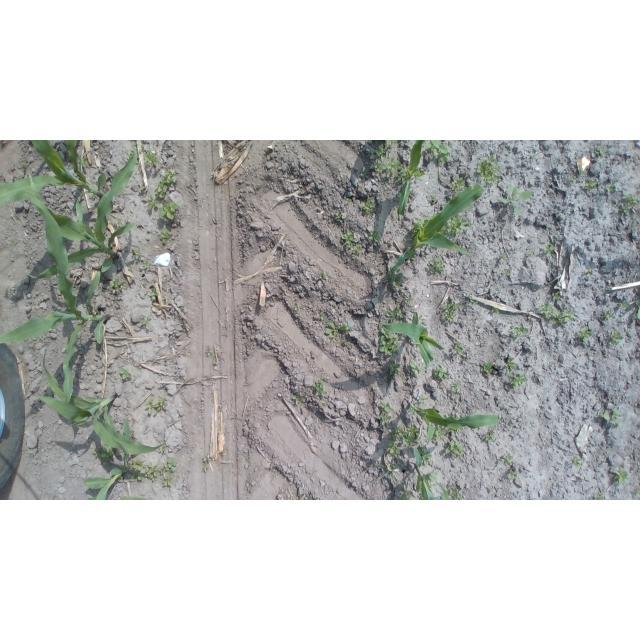Maize: (1, 188, 114, 409), (27, 144, 141, 284), (36, 348, 168, 460), (383, 182, 488, 275), (1, 140, 116, 212), (79, 415, 145, 499), (375, 309, 447, 371), (406, 401, 503, 443), (393, 141, 435, 220), (402, 445, 457, 500)
Weeds: (366, 141, 410, 182), (129, 459, 177, 491), (495, 184, 532, 219), (532, 305, 577, 326), (474, 156, 502, 185), (377, 327, 404, 357), (389, 424, 420, 448), (155, 170, 177, 203), (438, 218, 474, 238), (499, 452, 519, 480), (428, 140, 451, 164), (441, 299, 461, 326), (146, 396, 171, 417), (93, 444, 119, 464), (324, 322, 352, 339), (385, 303, 408, 323), (427, 257, 450, 277), (376, 401, 393, 427), (442, 440, 466, 458), (158, 202, 179, 222), (339, 228, 357, 251), (602, 409, 622, 429), (409, 217, 431, 235), (453, 342, 470, 365), (386, 269, 406, 288), (574, 327, 594, 346), (385, 442, 404, 461), (620, 192, 637, 213), (611, 469, 629, 488), (361, 196, 377, 216), (508, 374, 529, 389), (450, 174, 467, 192), (436, 421, 461, 433), (432, 366, 453, 380), (138, 314, 155, 331), (605, 329, 623, 345), (109, 278, 127, 294), (447, 486, 467, 500), (144, 152, 160, 169), (158, 228, 175, 244), (430, 425, 445, 443), (313, 379, 327, 398), (510, 326, 530, 339), (482, 430, 498, 446), (479, 361, 495, 377), (386, 360, 402, 376), (407, 360, 422, 377), (367, 228, 380, 245), (146, 196, 159, 213), (420, 449, 432, 467), (332, 210, 346, 225), (118, 367, 133, 381), (402, 291, 415, 305), (467, 295, 481, 308), (586, 177, 599, 191), (289, 391, 302, 405), (541, 243, 553, 258), (632, 298, 640, 320), (202, 455, 211, 474), (504, 358, 517, 371), (497, 250, 510, 263), (616, 299, 629, 312), (602, 310, 615, 323), (142, 260, 155, 273), (571, 453, 583, 467), (450, 380, 463, 392), (592, 489, 605, 500), (415, 397, 429, 407), (130, 249, 141, 261), (400, 490, 414, 499), (149, 290, 160, 301), (527, 248, 539, 258), (290, 303, 302, 313), (606, 184, 619, 193), (317, 312, 326, 325), (491, 305, 502, 315), (551, 291, 562, 301), (318, 270, 328, 281), (503, 269, 513, 279), (203, 347, 213, 357), (342, 197, 352, 207), (596, 147, 605, 157), (580, 168, 589, 178), (633, 488, 640, 500), (570, 176, 579, 184), (430, 196, 438, 205), (586, 269, 594, 277)
